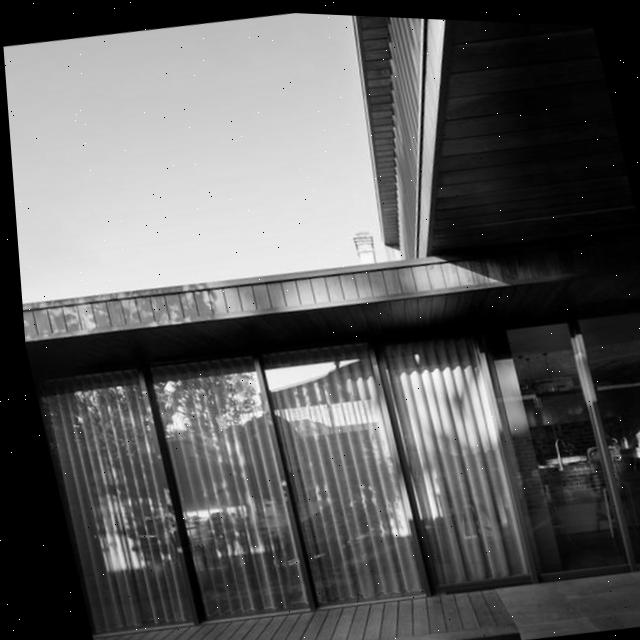building: (15, 201, 640, 640), (319, 14, 640, 271)
